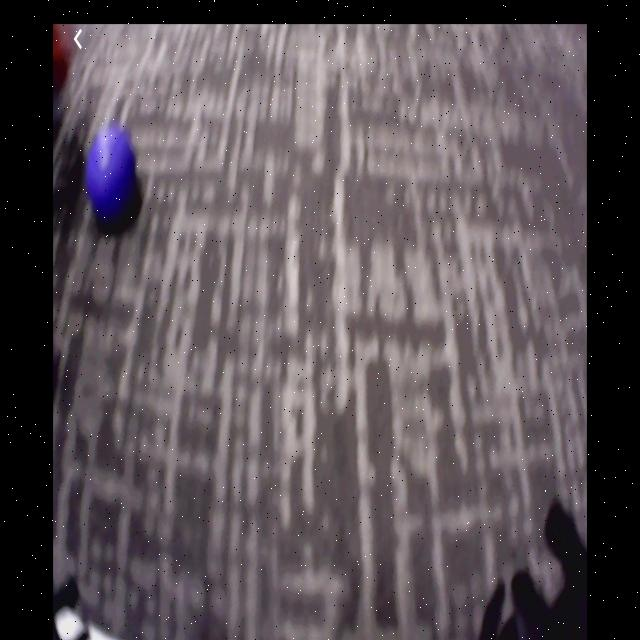ball: (86, 129, 139, 222)
